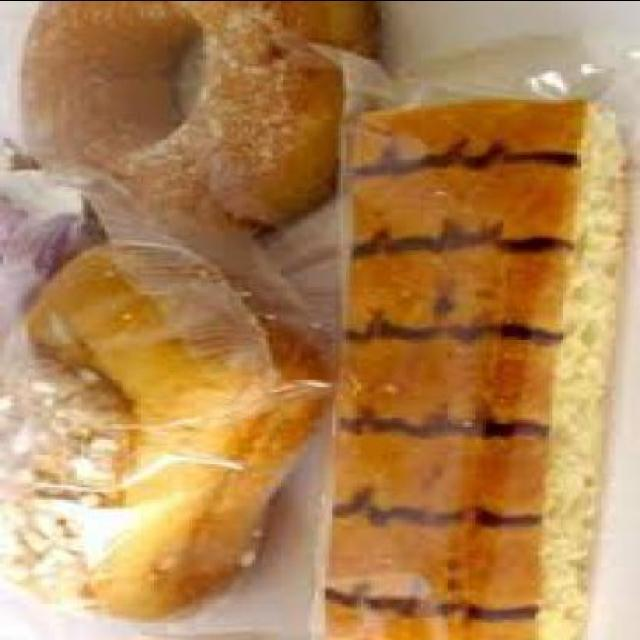Merendine packaged: (308, 47, 637, 638), (3, 238, 332, 624)
